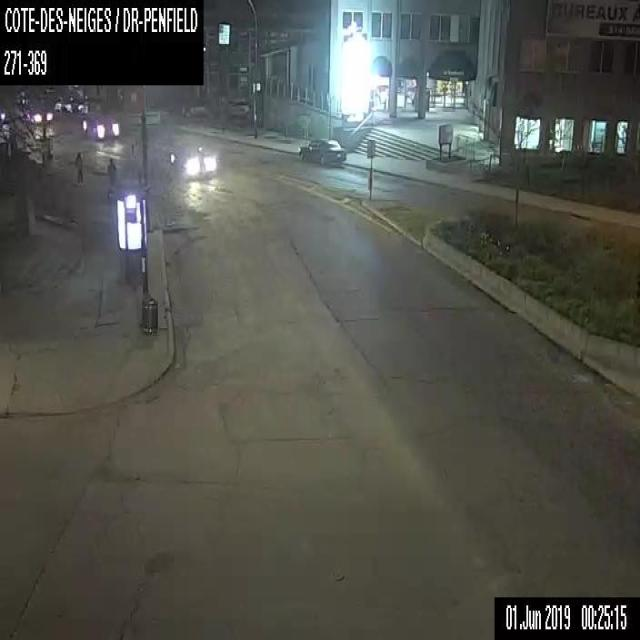pedestrian: (106, 157, 115, 185), (74, 151, 82, 181)
vehicle: (132, 133, 213, 176), (298, 136, 346, 165), (82, 112, 118, 139), (226, 96, 249, 119)
